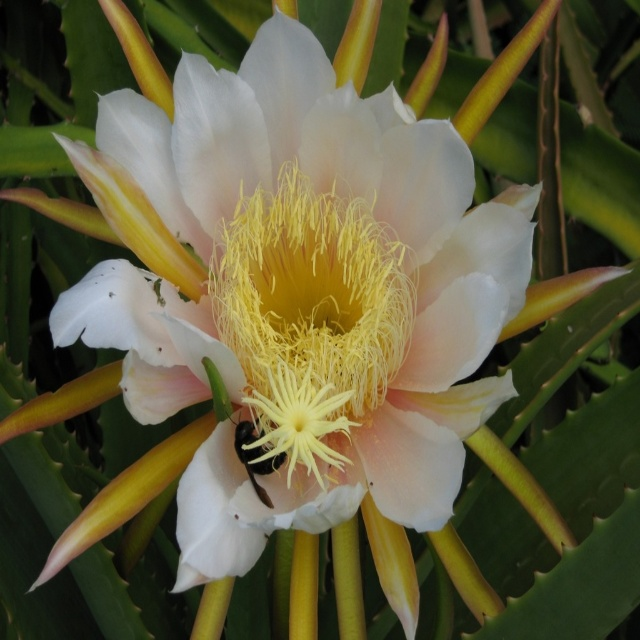Moths and butterflies: (234, 417, 289, 509)
